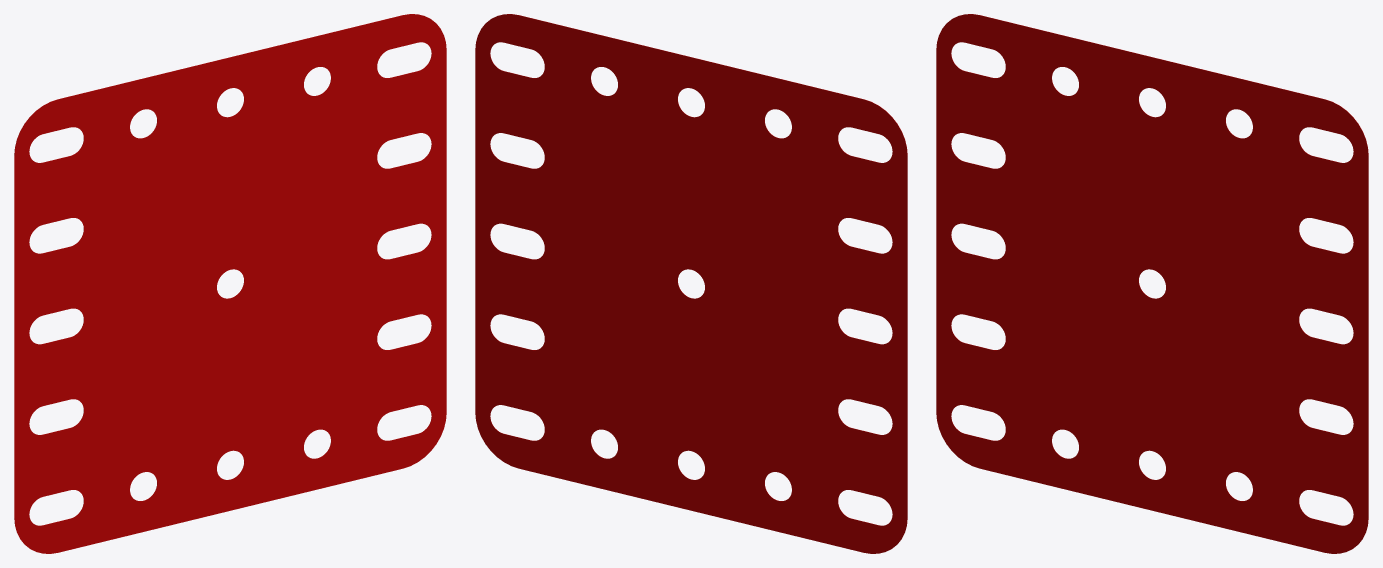
Rendered from TamPhang_5x5_NhuaMem_Do.glb.
The picture shows the model from 3 angles, left to right: view 1: azimuth 30°, elevation 25°; view 2: azimuth 150°, elevation 25°; view 3: azimuth 330°, elevation 25°; orthographic projection.
Parts seen in each view (by area): view 1: defaultobject; view 2: defaultobject; view 3: defaultobject.
Part boxes in pixels (x1,y1,x2,y2): defaultobject: [14, 14, 446, 553]; defaultobject: [475, 14, 907, 553]; defaultobject: [936, 14, 1368, 553].
Bounding box in the file's own units: 158 × 158 × 0.126.
